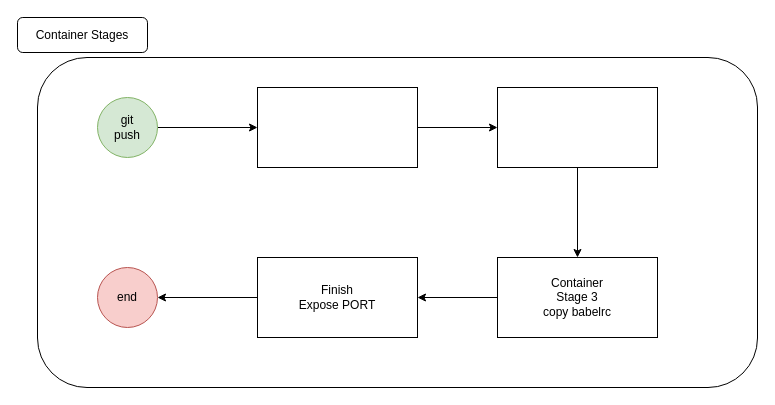
This 775x405 diagram has some shape labels left out. Here are the shapes that lost their labels. From the top down, the centre of each, then its label:
the point at 337,127: Container Stage 1 npm install
the point at 577,127: Container Stage 2 npm run build
